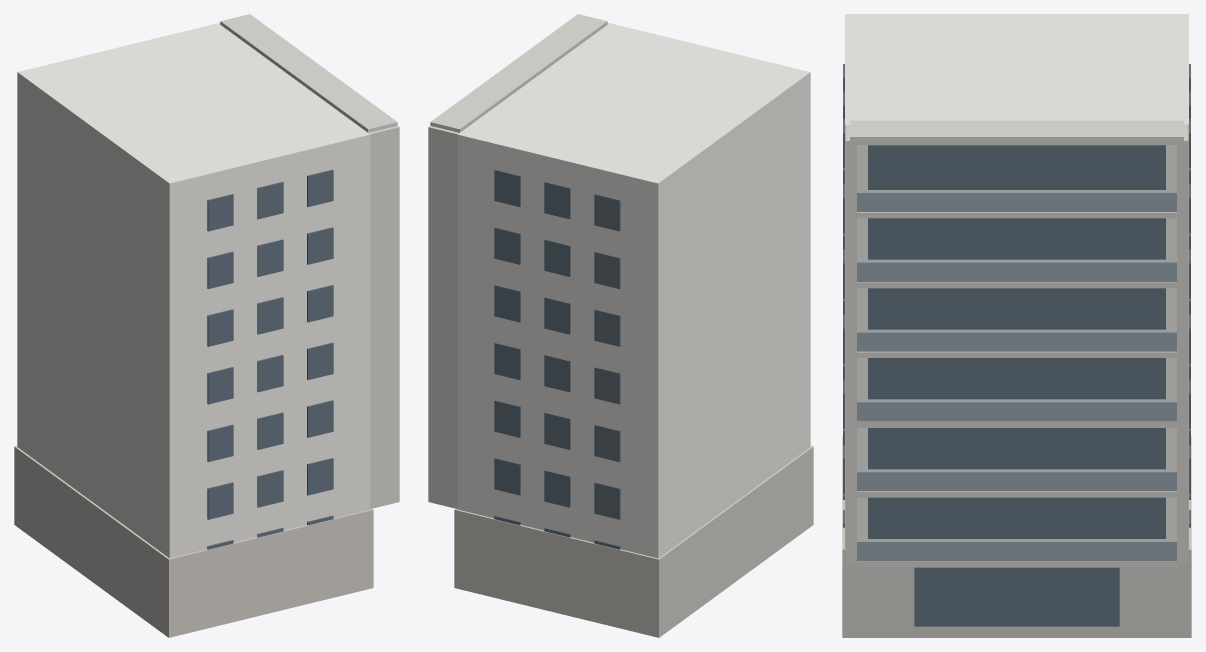
File: rambla_building_8.glb
3 views of the same model, side by side, from view 1: azimuth 30°, elevation 25°; view 2: azimuth 150°, elevation 25°; view 3: azimuth 270°, elevation 25° (orthographic). The views are drawn at different scales.
Parts seen in each view (by area): view 1: RamblaBuilding_8; view 2: RamblaBuilding_8; view 3: RamblaBuilding_8.
Boxes of the visible parts, box(x1,y1,x2,y2) form: RamblaBuilding_8: box(14, 14, 399, 637); RamblaBuilding_8: box(428, 14, 813, 637); RamblaBuilding_8: box(842, 14, 1191, 637).
Size of the model in its own units: 11.8 by 22.17 by 13.6.
